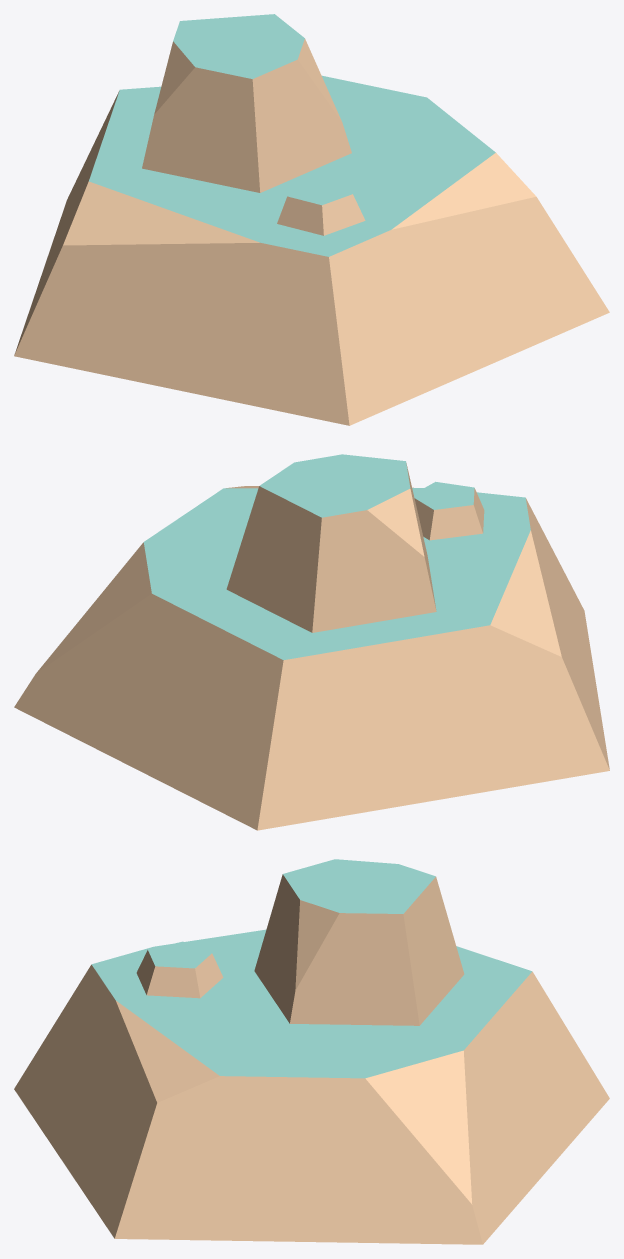
The model's file is rock_smallTop2.glb.
3 views of the same model, one above another, from view 1: azimuth 30°, elevation 25°; view 2: azimuth 150°, elevation 25°; view 3: azimuth 270°, elevation 25° (orthographic). The views are drawn at different scales.
Visible parts, largest first — view 1: rock_smallTop2; view 2: rock_smallTop2; view 3: rock_smallTop2.
Boxes of the visible parts, x1=… form: rock_smallTop2: x1=14, y1=14, x2=609, y2=425; rock_smallTop2: x1=14, y1=454, x2=609, y2=830; rock_smallTop2: x1=14, y1=859, x2=609, y2=1244.
Size of the model in its own units: 0.6221 by 0.28 by 0.6463.
